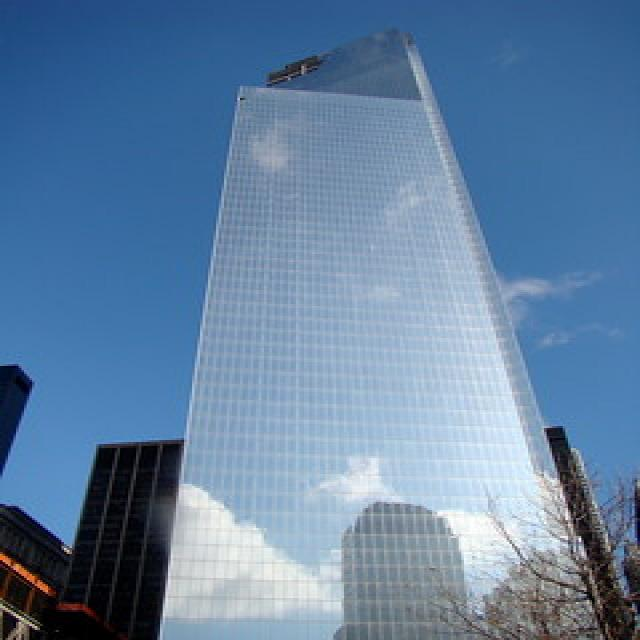Normal_building: (145, 20, 620, 636)
